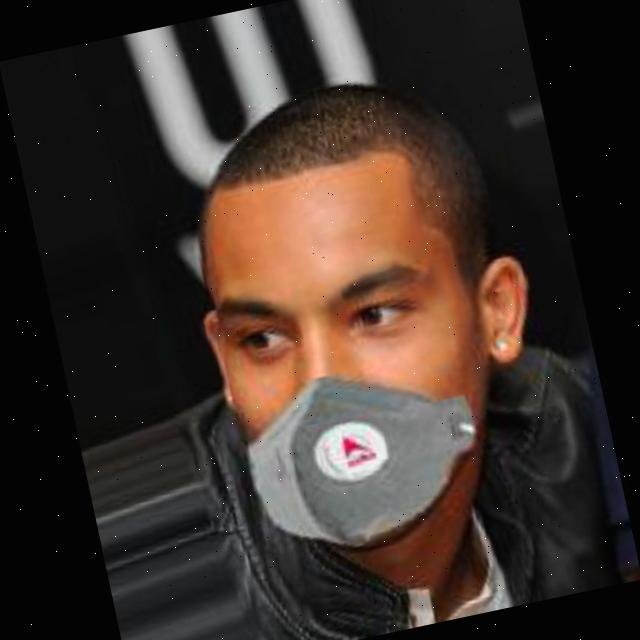suspicion: (152, 86, 570, 564)
